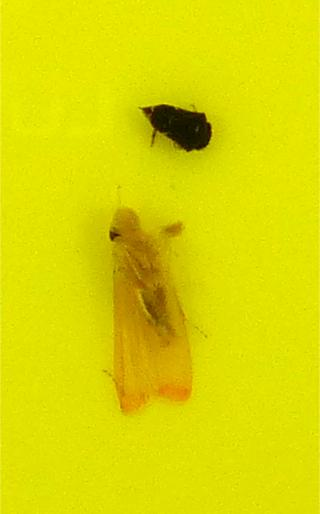Hemiptera: (100, 203, 193, 414), (143, 100, 220, 161)
